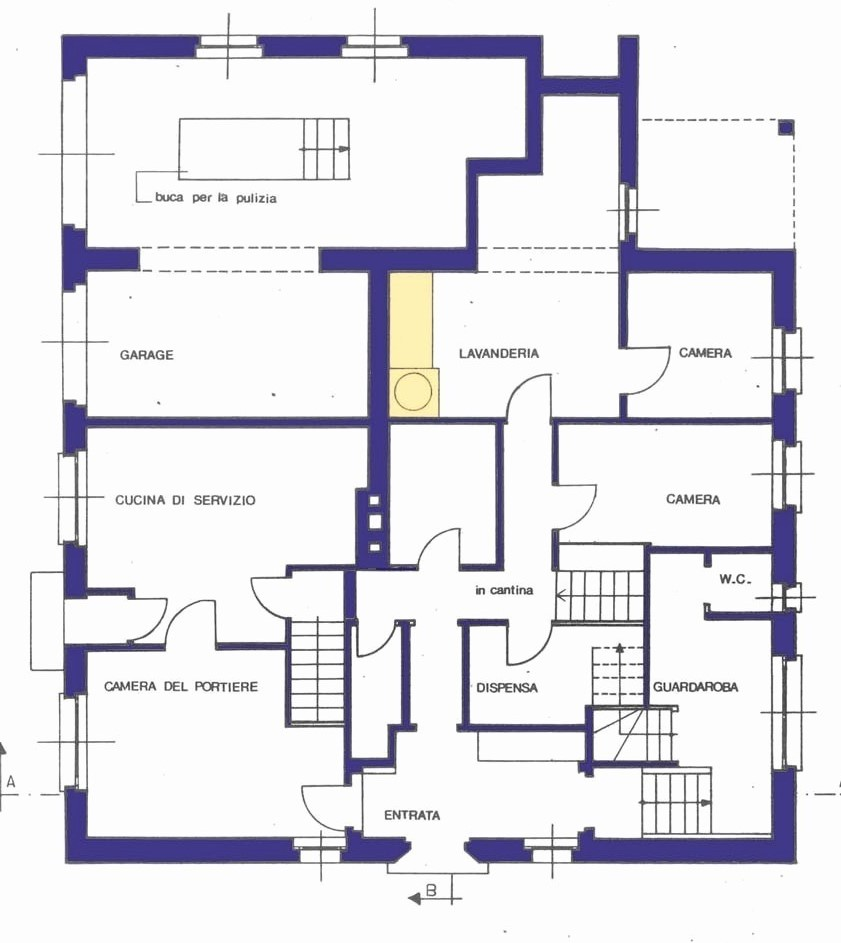wall: (365, 251, 392, 572), (67, 838, 300, 864), (618, 241, 791, 275), (575, 837, 797, 862), (84, 412, 507, 424), (320, 249, 481, 274), (402, 34, 542, 59), (617, 38, 640, 188), (61, 37, 195, 58), (525, 75, 640, 99), (768, 765, 800, 851), (524, 35, 545, 162), (771, 504, 801, 591), (640, 541, 655, 705), (461, 839, 542, 867), (551, 415, 771, 425), (772, 251, 798, 335), (345, 829, 401, 867), (62, 784, 88, 864), (458, 719, 584, 735), (261, 32, 340, 57), (612, 245, 631, 344), (398, 619, 415, 724), (572, 755, 678, 771), (58, 405, 91, 455), (771, 394, 805, 442), (60, 228, 87, 288), (62, 639, 90, 692), (345, 567, 352, 778), (462, 618, 475, 728), (87, 244, 138, 272), (638, 544, 775, 554), (491, 418, 500, 567), (67, 541, 88, 598), (60, 35, 85, 82), (468, 158, 540, 174), (581, 707, 598, 774), (710, 608, 797, 621), (282, 618, 292, 724), (770, 614, 797, 649), (468, 157, 478, 251), (215, 639, 287, 651), (290, 565, 417, 571), (87, 644, 162, 654), (87, 584, 135, 599), (551, 418, 561, 484), (355, 755, 391, 772), (457, 618, 508, 629), (550, 528, 561, 577), (390, 722, 404, 748), (461, 562, 495, 569)
